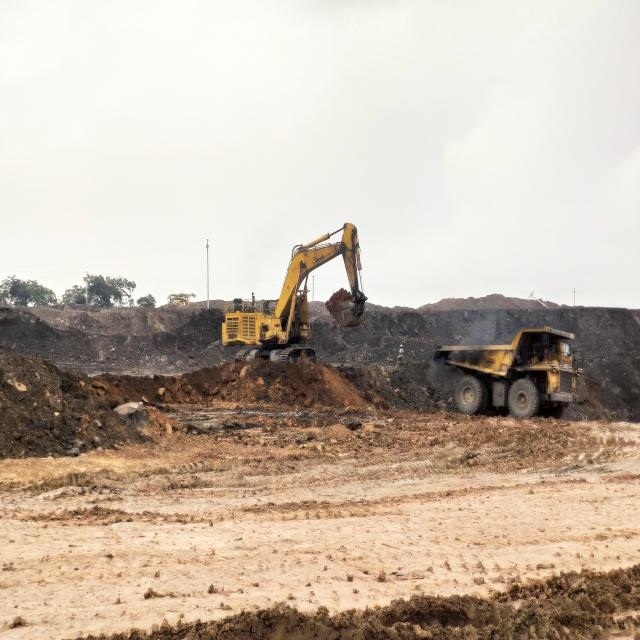dump_truck: (433, 328, 584, 420)
excavator: (221, 220, 369, 365)
